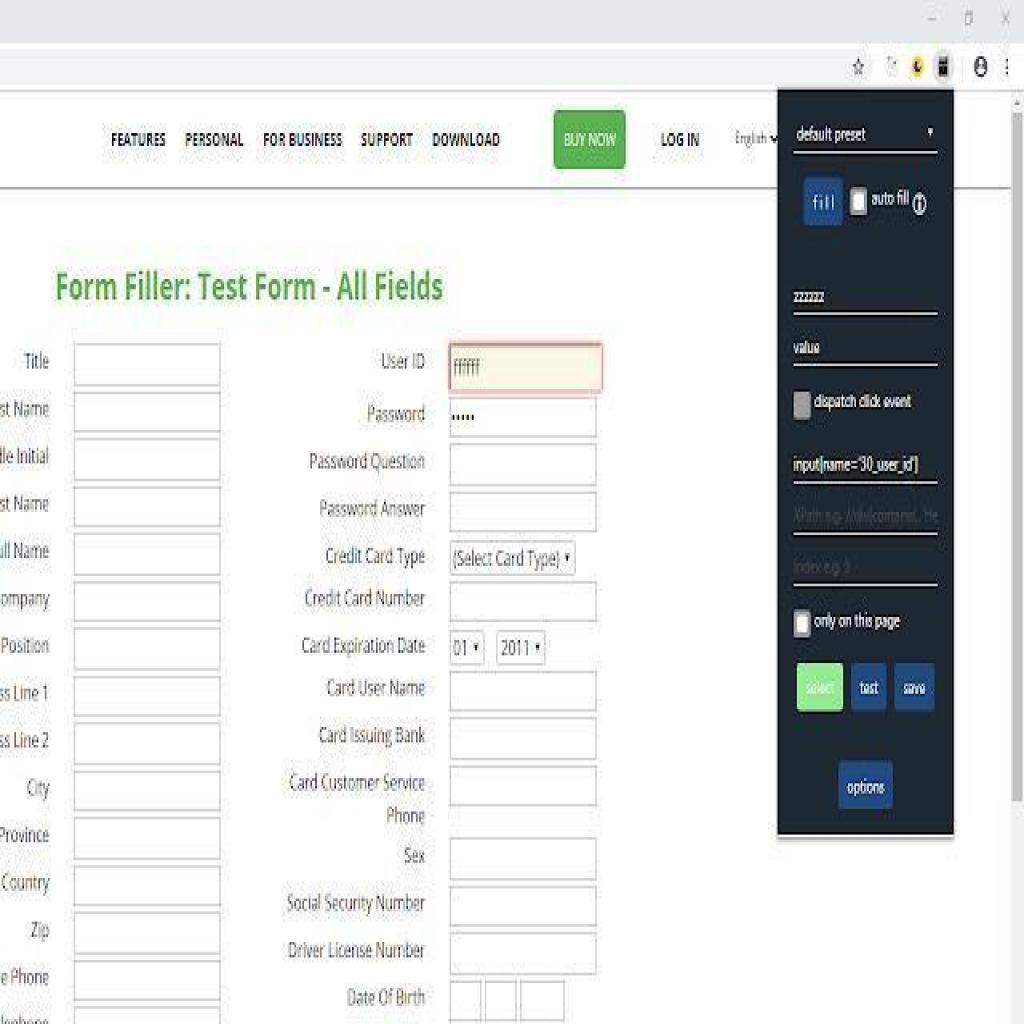button: (552, 110, 627, 169), (838, 760, 893, 809), (797, 663, 843, 709), (894, 666, 934, 709), (851, 663, 888, 709)
checkbox: (794, 609, 812, 640), (850, 187, 867, 217), (794, 392, 811, 420)
dropdown: (450, 540, 574, 576), (498, 632, 546, 663), (450, 630, 484, 663)
input: (450, 343, 603, 392), (794, 489, 939, 535), (794, 269, 938, 315), (792, 540, 936, 586), (74, 627, 220, 671), (792, 440, 936, 484), (450, 932, 596, 975), (74, 817, 220, 860), (75, 438, 219, 481), (792, 323, 936, 366), (74, 532, 220, 574), (450, 670, 595, 712), (450, 443, 596, 484), (74, 722, 220, 763), (75, 343, 219, 384), (450, 886, 596, 926), (450, 720, 595, 760), (450, 840, 595, 880), (74, 866, 219, 906), (450, 491, 596, 530), (450, 765, 596, 804), (74, 581, 220, 620), (74, 678, 220, 717), (451, 581, 595, 620), (450, 397, 596, 435), (75, 963, 221, 1001), (74, 392, 219, 430), (74, 771, 219, 809), (74, 489, 220, 525), (74, 914, 220, 950), (520, 980, 565, 1022), (450, 980, 482, 1019), (485, 980, 517, 1019)
label: (306, 581, 434, 615), (290, 768, 428, 796), (286, 937, 428, 963), (299, 632, 426, 660), (304, 446, 429, 474), (285, 888, 427, 912), (317, 496, 427, 524), (323, 540, 432, 568), (323, 676, 427, 701), (814, 389, 914, 415), (315, 722, 427, 745), (261, 123, 344, 153), (344, 983, 429, 1009), (813, 610, 902, 632), (0, 957, 54, 993), (107, 123, 171, 153), (0, 673, 53, 709), (378, 345, 430, 379), (182, 126, 245, 154), (364, 397, 426, 425), (0, 817, 51, 850), (0, 583, 54, 614), (430, 128, 502, 151), (0, 538, 53, 566), (0, 440, 53, 468), (0, 873, 51, 899), (0, 725, 53, 750), (360, 128, 416, 151), (0, 494, 54, 517), (0, 635, 53, 658), (384, 801, 427, 827), (660, 125, 702, 151), (0, 399, 51, 420), (24, 776, 56, 804), (22, 348, 50, 374), (26, 917, 52, 942), (402, 842, 428, 866)
